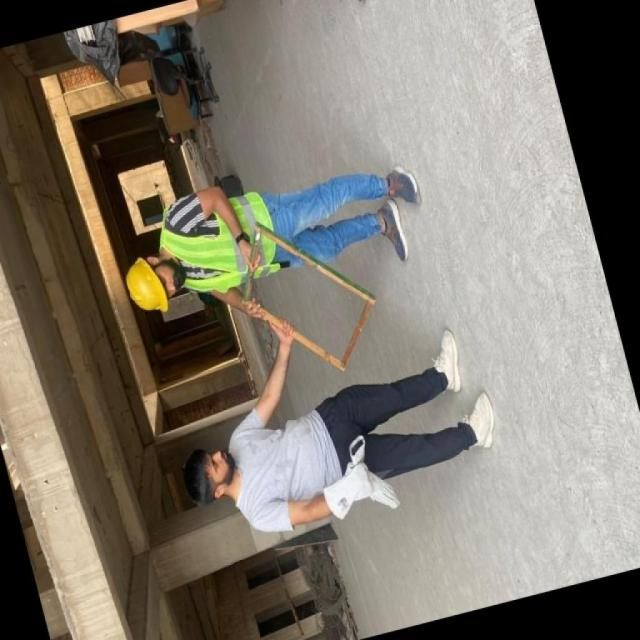Gloves-Detection: (322, 436, 402, 518)
